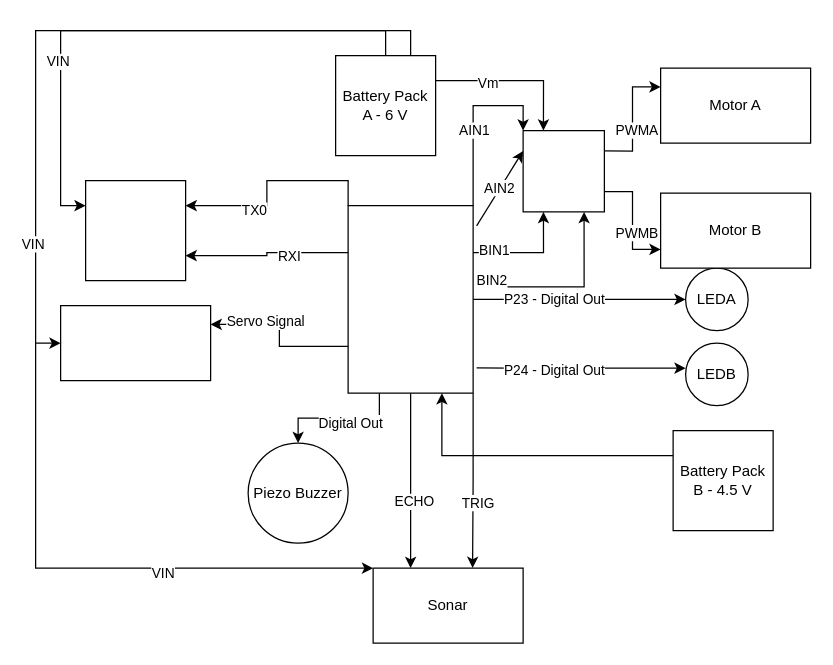
Image size: 833x665. Some labels were removed from this diagram. Each missing label, with the centre of its shape:
"H-Bridge" belongs at pixel 563 170.
"Mbed" belongs at pixel 410 298.
"Servo" belongs at pixel 135 342.
"UART" belongs at pixel 135 230.
